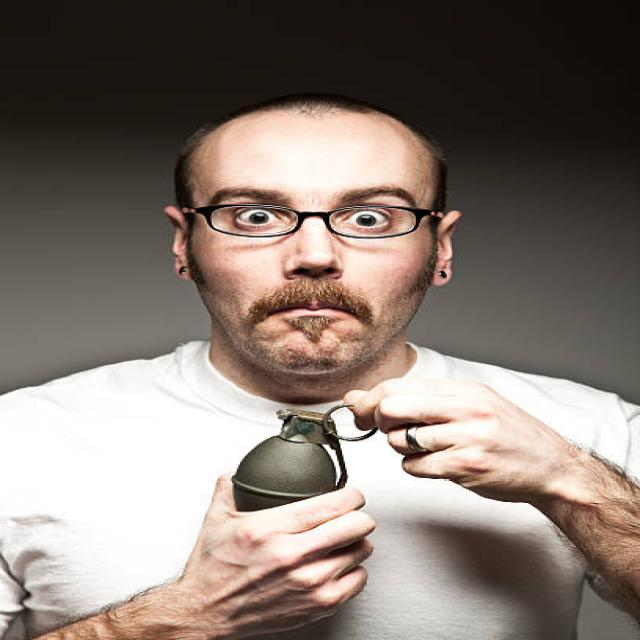grenade: (238, 403, 392, 514)
